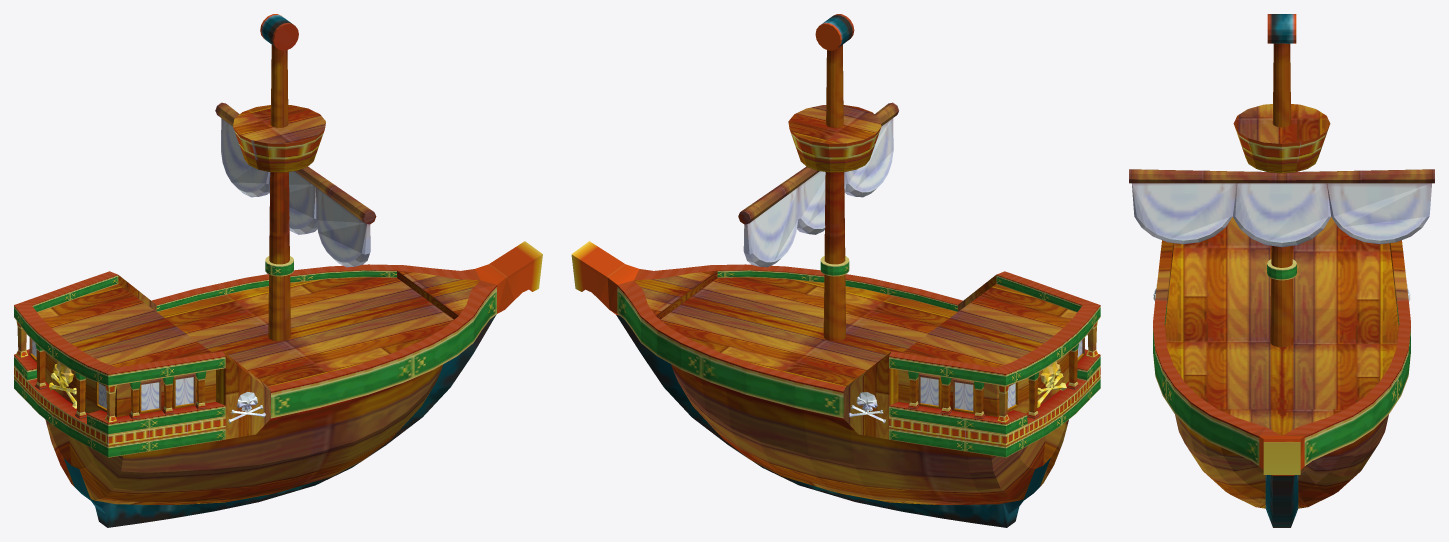
Rendered from viking.dae.
3 renders of one model, left to right at view 1: azimuth 30°, elevation 25°; view 2: azimuth 150°, elevation 25°; view 3: azimuth 270°, elevation 25°, orthographic. The views are drawn at different scales.
Parts seen in each view (by area): view 1: m0; view 2: m0; view 3: m0.
Boxes of the visible parts, left/top/right/bottom form: m0: left=14, top=14, right=542, bottom=527; m0: left=571, top=14, right=1100, bottom=527; m0: left=1129, top=14, right=1434, bottom=527.
Bounding box in the file's own units: 2433 × 2288 × 1300.
Materials: 1 (1 with a texture image).
